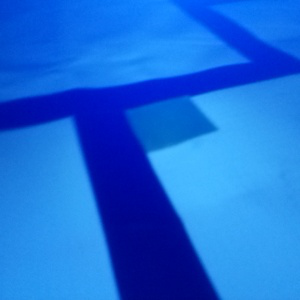bottom_right: (84, 95, 218, 153)
